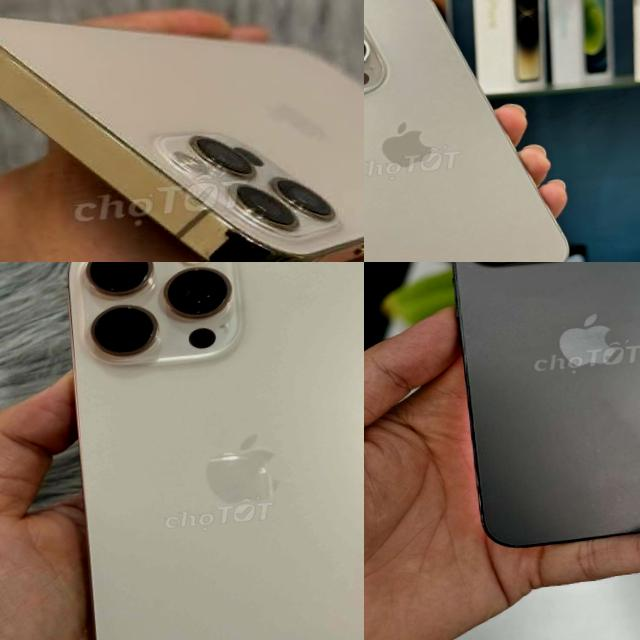scratch: (612, 496, 628, 505), (589, 501, 601, 508)
